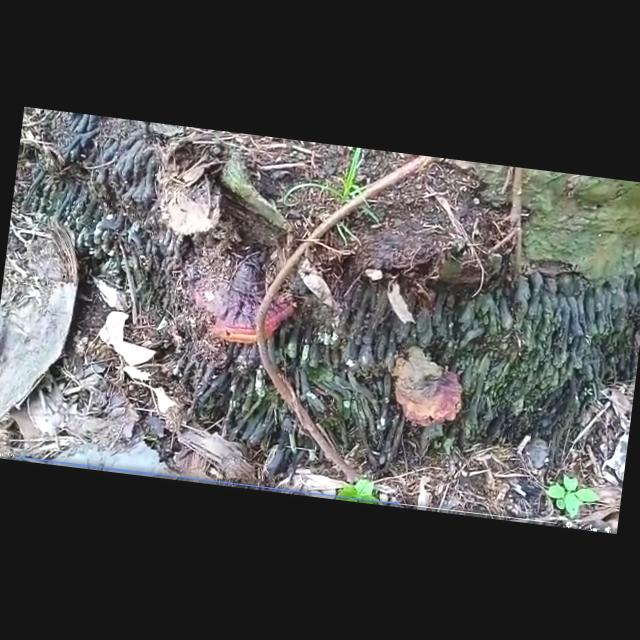ganoderma: (186, 259, 301, 351), (386, 344, 473, 433)
